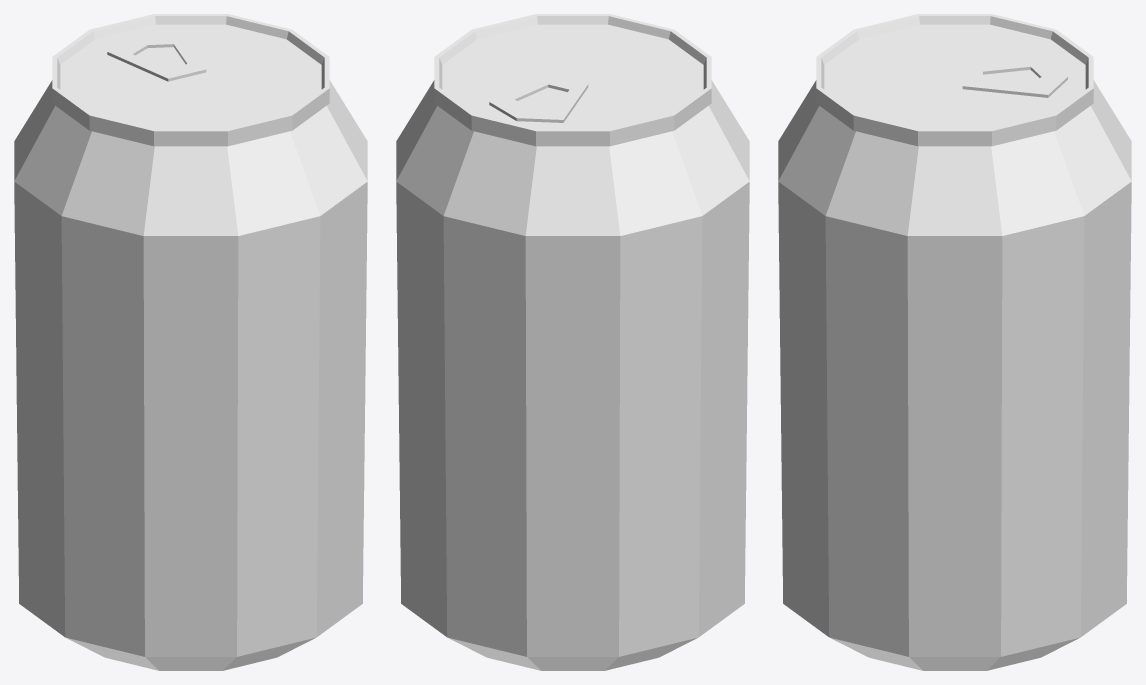
The model's file is Prop_Can_01.glb.
The picture shows the model from 3 angles, left to right: view 1: azimuth 30°, elevation 25°; view 2: azimuth 150°, elevation 25°; view 3: azimuth 270°, elevation 25°; orthographic projection.
Visible parts, largest first — view 1: Prop_Can_01; view 2: Prop_Can_01; view 3: Prop_Can_01.
Boxes of the visible parts, <box> form: Prop_Can_01: <box>14,14,367,670</box>; Prop_Can_01: <box>396,14,749,670</box>; Prop_Can_01: <box>778,14,1131,670</box>.
Bounding box in the file's own units: 0.06 × 0.1028 × 0.06.
Materials: 1 (1 with a texture image).
